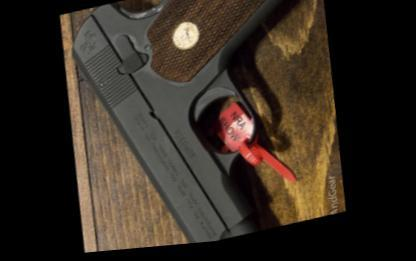pistol: (62, 0, 337, 254)
